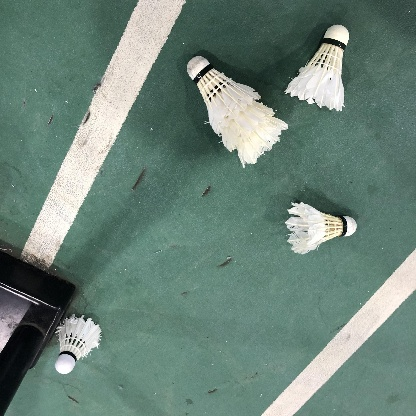ball_single: (187, 56, 288, 168), (285, 25, 349, 112), (285, 202, 357, 255), (55, 314, 101, 374)
